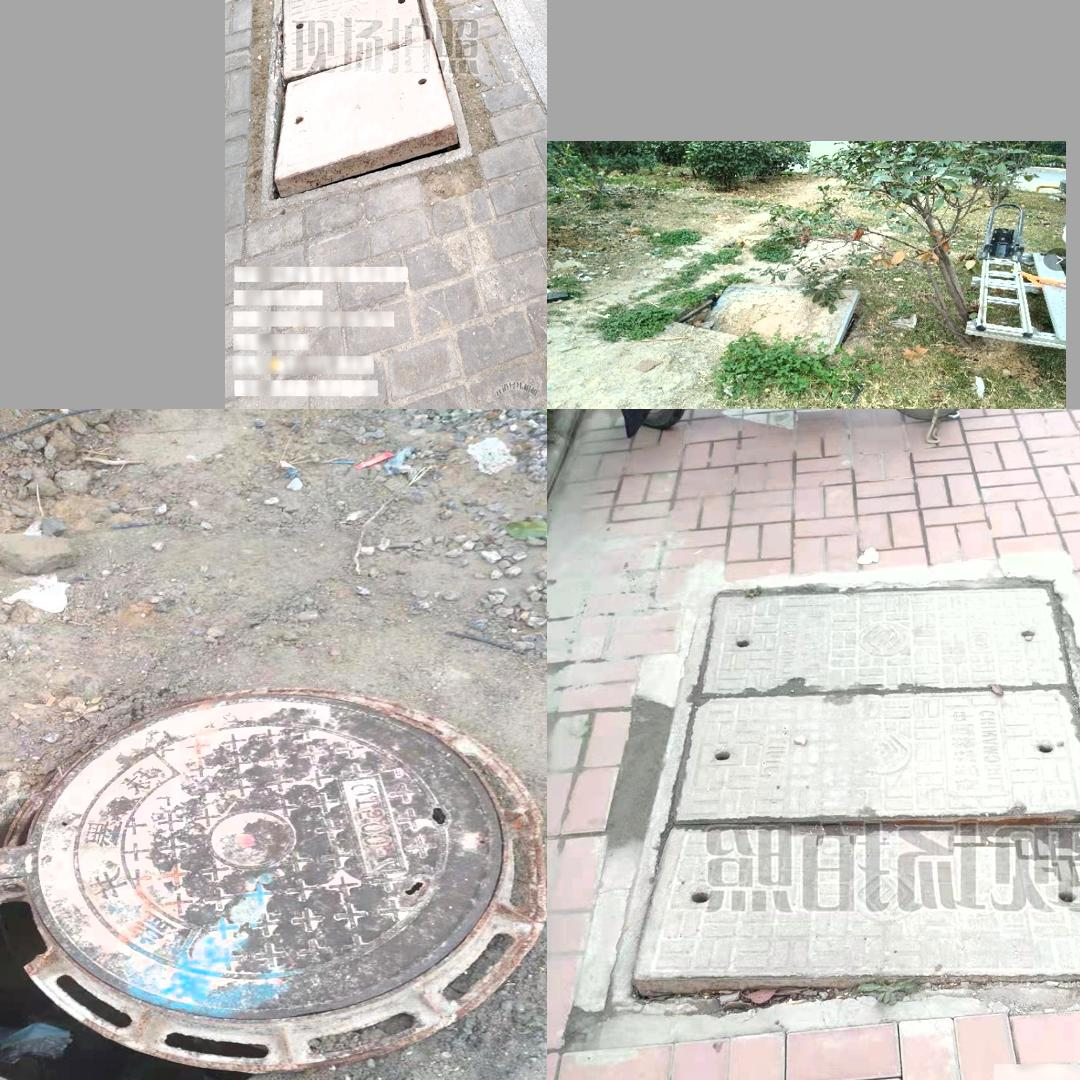uncovered: (608, 566, 1080, 1016), (0, 688, 537, 1080), (276, 0, 479, 182), (673, 273, 881, 352)
